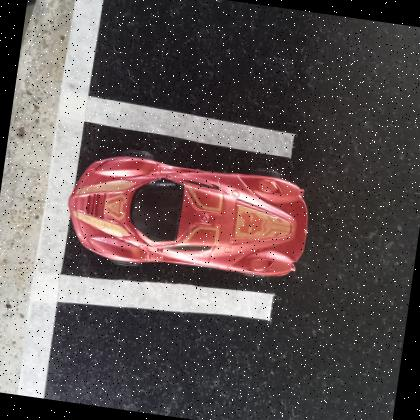Car: (68, 156, 309, 279)
